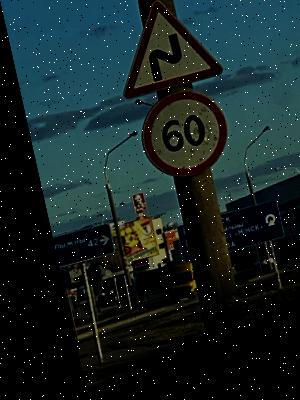Speed Limit -60-: (125, 88, 226, 193)
